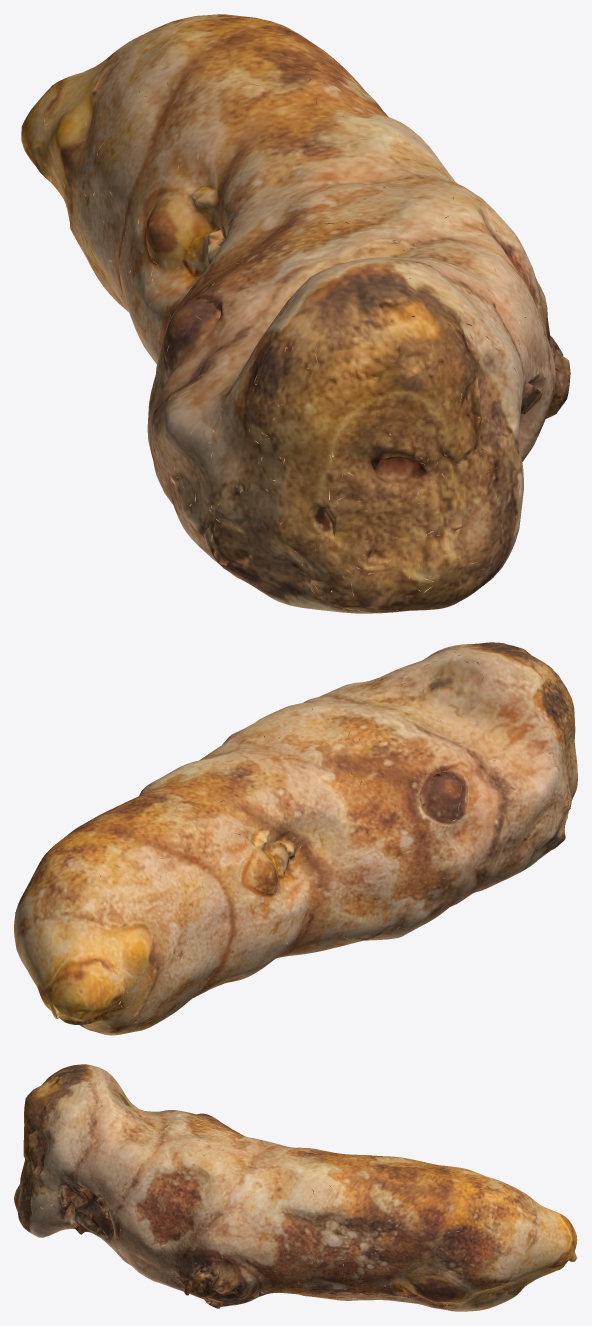
Rendered from turmeric-root.glb.
3 renders of one model, top to bottom at view 1: azimuth 30°, elevation 25°; view 2: azimuth 150°, elevation 25°; view 3: azimuth 270°, elevation 25°, orthographic. The views are drawn at different scales.
Visible parts, largest first — view 1: Stereo textured mesh; view 2: Stereo textured mesh; view 3: Stereo textured mesh.
Part boxes in pixels (x1=…): Stereo textured mesh: x1=21, y1=14, x2=570, y2=613; Stereo textured mesh: x1=14, y1=642, x2=577, y2=1035; Stereo textured mesh: x1=14, y1=1064, x2=577, y2=1311.
Size of the model in its own units: 0.0258 by 0.0186 by 0.0509.
1 material, 1 textured.
